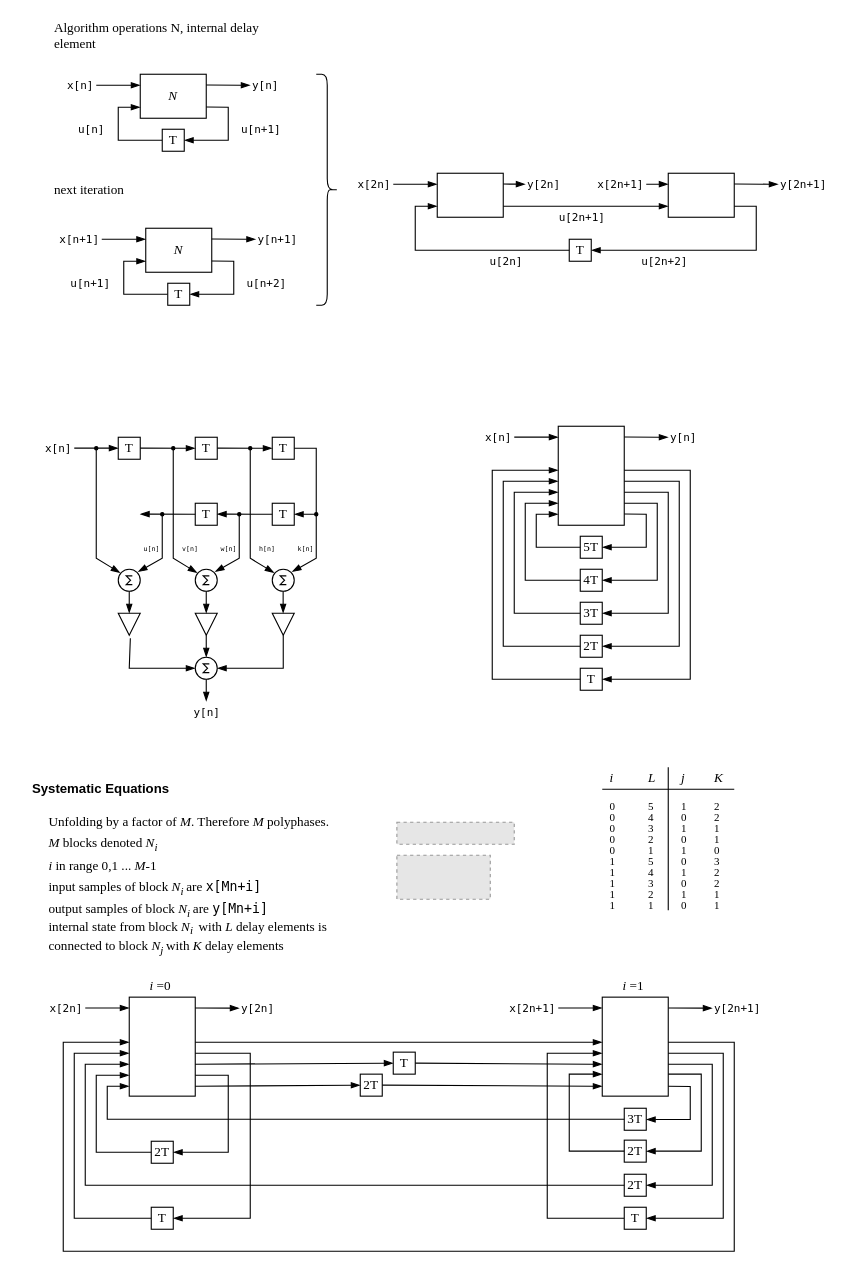
Some shapes in this 845 by 1279 pixel diagram are drawn without their labels. Grey dashed boxes stand in for pictures. The box of each missing label's shape, as (x1, y1, x2, y2) in pixels:
IIR: (557, 425, 624, 525)
IIR 0: (128, 996, 195, 1096)
IIR 1: (601, 996, 668, 1096)
N 0: (436, 172, 503, 217)
N 1: (667, 172, 734, 217)
